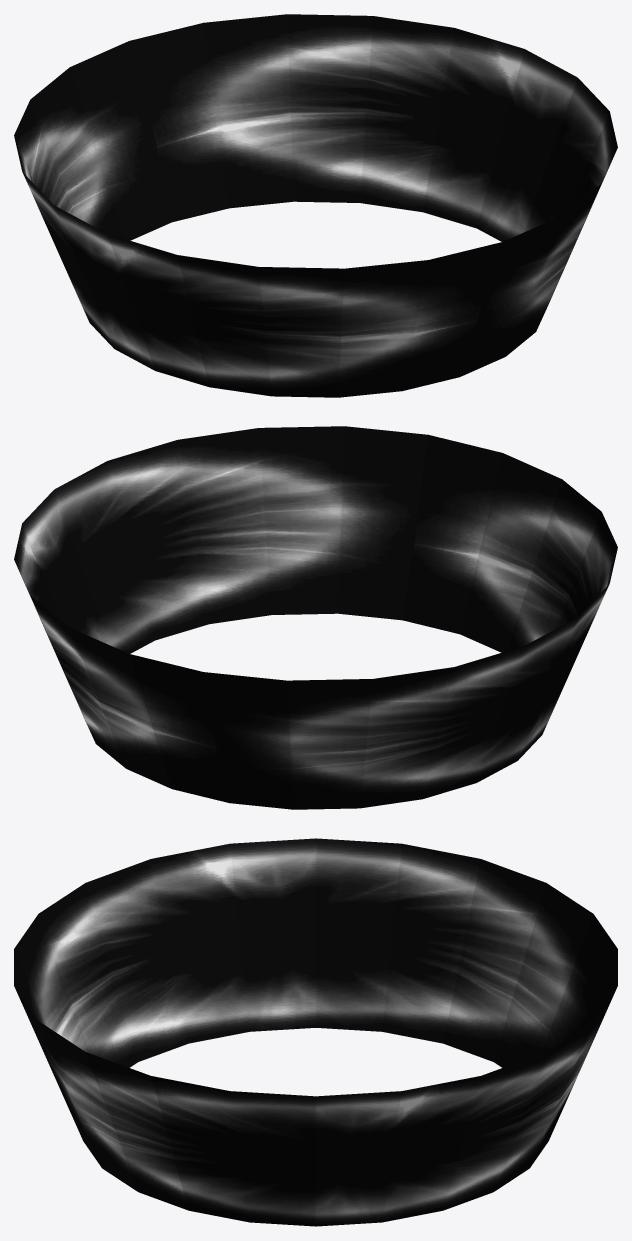
Rendered from 0367_liumange_ring_z01.glb.
3 views of the same model, one above another, from view 1: azimuth 30°, elevation 25°; view 2: azimuth 150°, elevation 25°; view 3: azimuth 270°, elevation 25° (orthographic).
Bounding box in the file's own units: 2.2 × 0.6357 × 2.18.
1 material, 1 textured.
